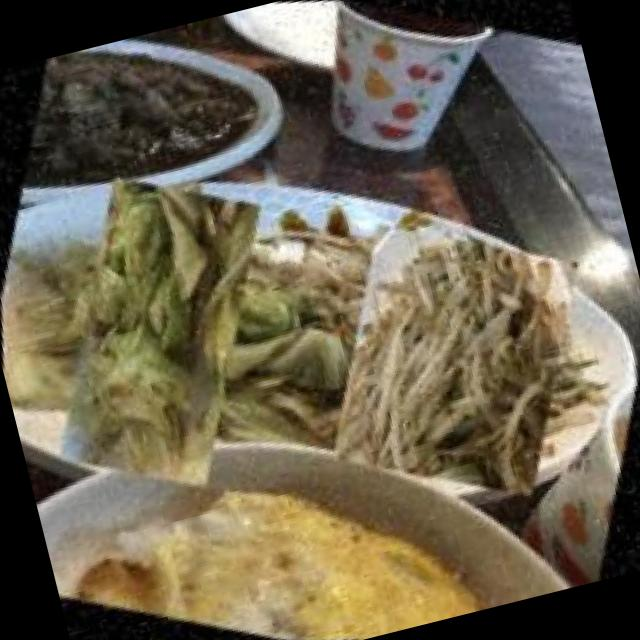chinese_cabbage: (0, 141, 348, 520)
mung_bean_sprouts: (262, 168, 640, 550)
